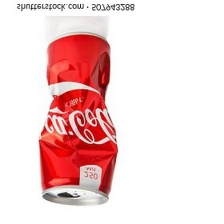can: (35, 26, 123, 206)
